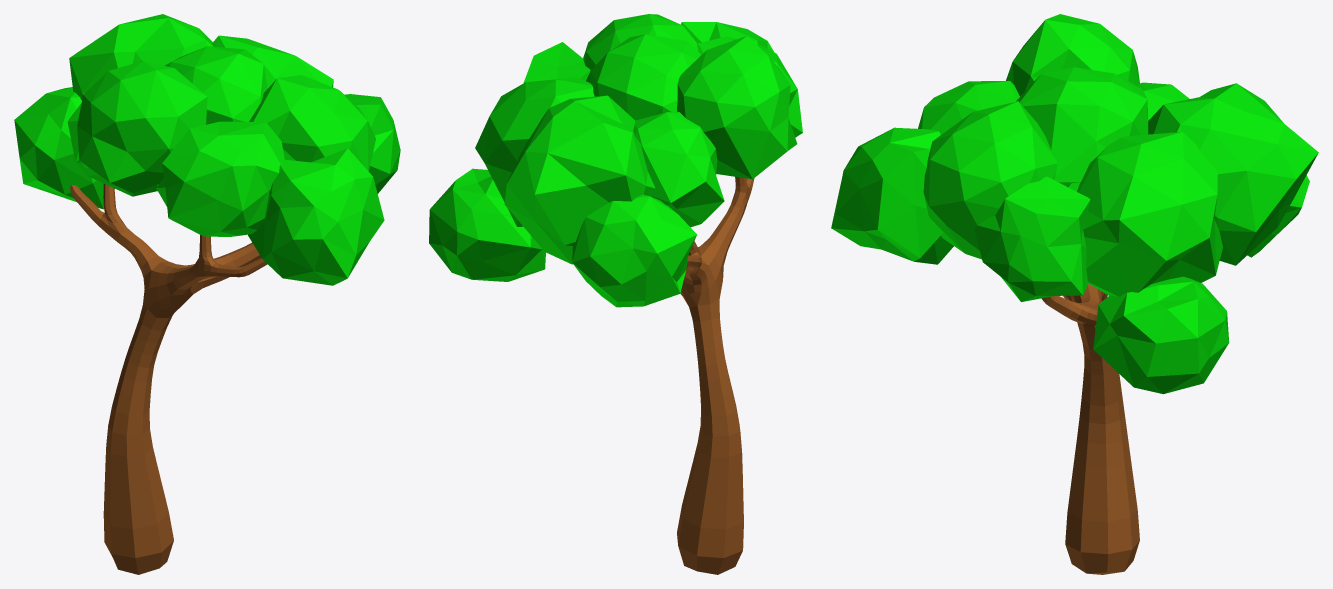
Rendered from GametreeV2.fbx.
3 renders of one model, left to right at view 1: azimuth 30°, elevation 25°; view 2: azimuth 150°, elevation 25°; view 3: azimuth 270°, elevation 25°, orthographic. The views are drawn at different scales.
Parts seen in each view (by area): view 1: Icosphere.011; view 2: Icosphere.011; view 3: Icosphere.011.
Part boxes in pixels (x1,y1,x2,y2): Icosphere.011: (14, 14, 400, 574); Icosphere.011: (429, 14, 802, 574); Icosphere.011: (831, 14, 1318, 574).
Bounding box in the file's own units: 855 × 1384 × 1116.
